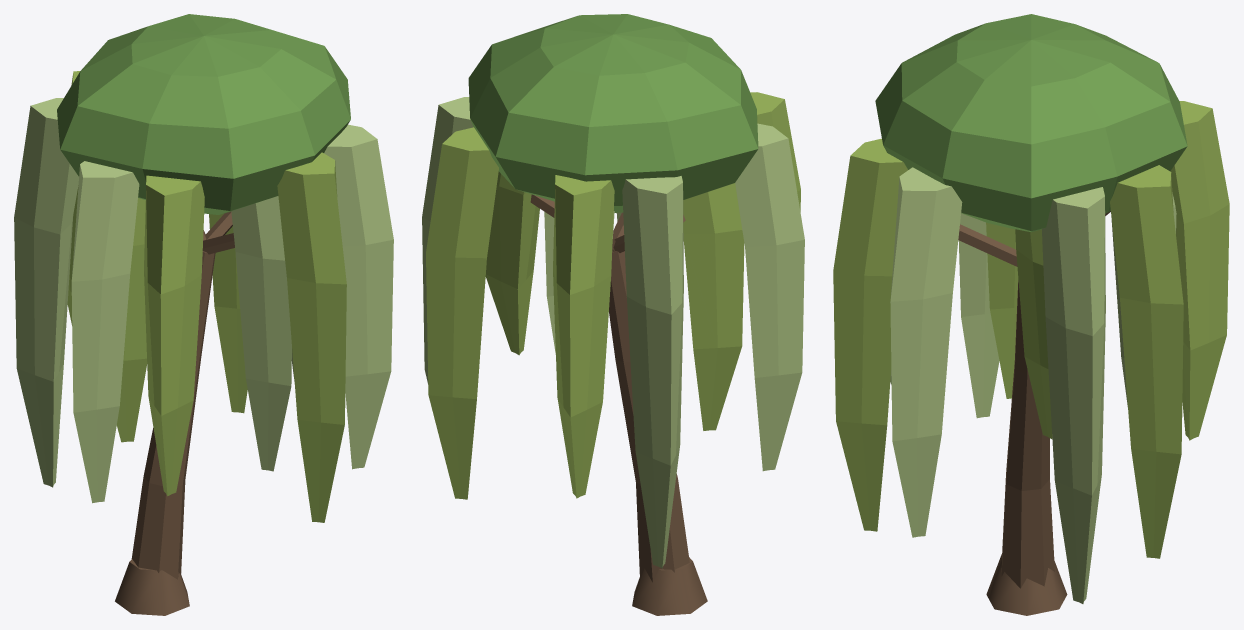
The model's file is willow.glb.
3 renders of one model, left to right at view 1: azimuth 30°, elevation 25°; view 2: azimuth 150°, elevation 25°; view 3: azimuth 270°, elevation 25°, orthographic. The views are drawn at different scales.
Parts seen in each view (by area): view 1: willow; view 2: willow; view 3: willow.
Boxes of the visible parts, x1,y1,x2,y2 form: willow: (14,14,393,615); willow: (422,14,804,615); willow: (833,14,1229,615).
Size of the model in its own units: 4.29 by 7.03 by 4.29.
